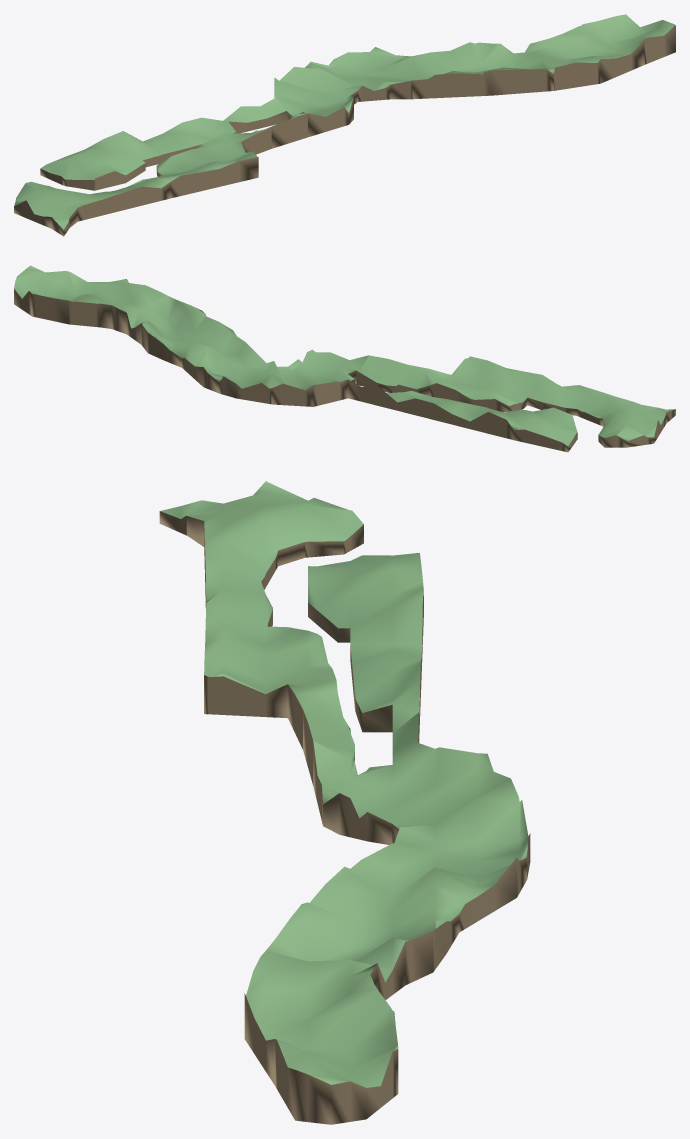
Rendered from GMB.glb.
3 renders of one model, top to bottom at view 1: azimuth 30°, elevation 25°; view 2: azimuth 150°, elevation 25°; view 3: azimuth 270°, elevation 25°, orthographic. The views are drawn at different scales.
Visible parts, largest first — view 1: GMB; view 2: GMB; view 3: GMB.
Part boxes in pixels (bbox=[...]): GMB: bbox=[14, 14, 675, 236]; GMB: bbox=[14, 265, 675, 452]; GMB: bbox=[159, 481, 530, 1124].
Bounding box in the file's own units: 1.88 × 0.0726 × 0.4788.
